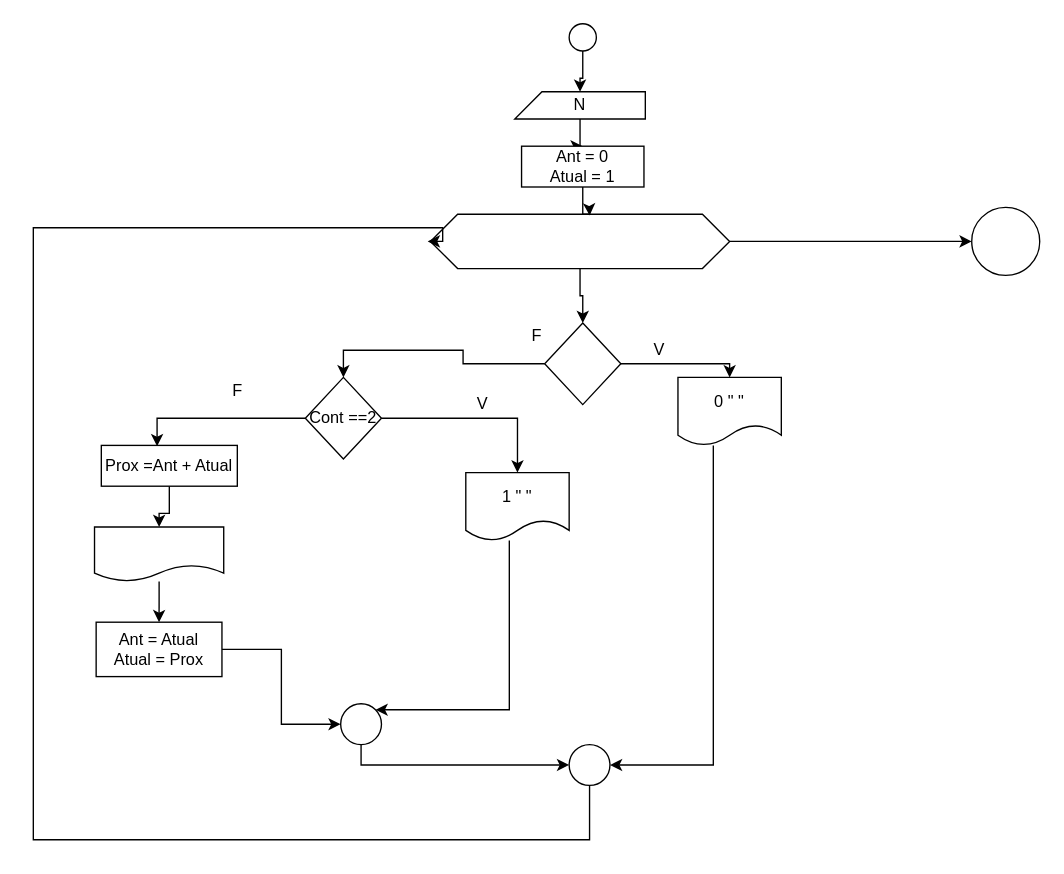
Some shapes in this 1064 by 874 pixel diagram are drawn without their labels. Here are the shapes that lost their labels. From the top down, the centre of each, then its label:
point (579, 241): Para Cont de 1 até N
point (582, 363): Cont ==1
point (158, 553): Prox " "
